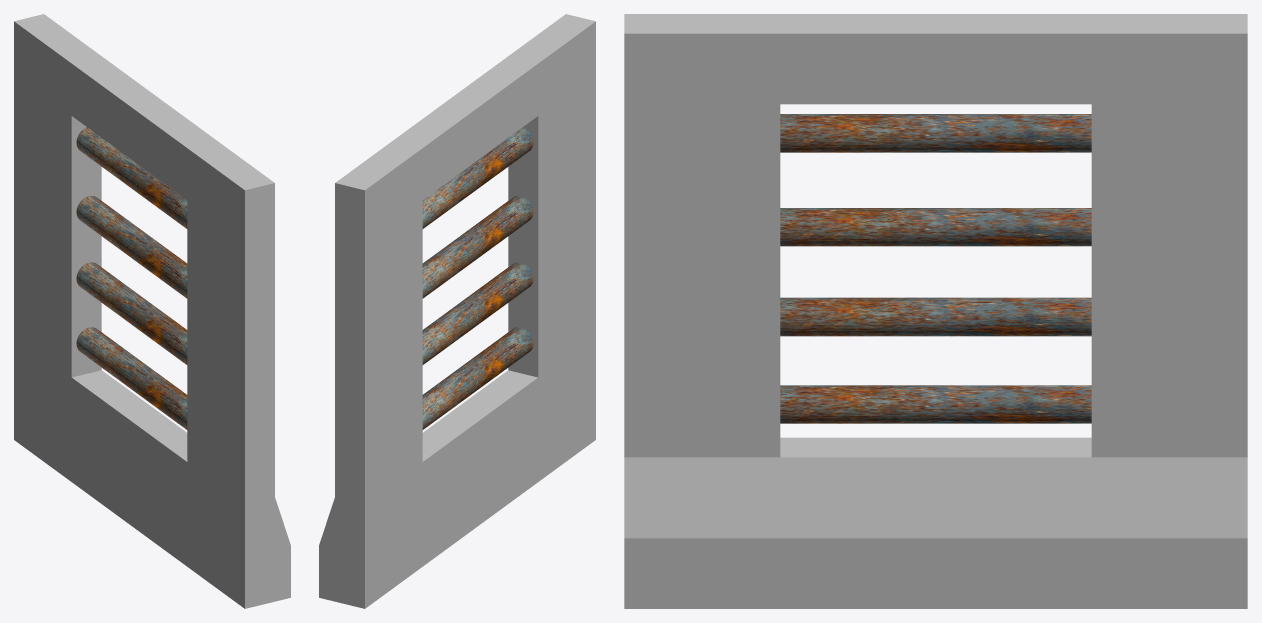
The model's file is wall 3_v2.fbx.
The picture shows the model from 3 angles, left to right: view 1: azimuth 30°, elevation 25°; view 2: azimuth 150°, elevation 25°; view 3: azimuth 270°, elevation 25°; orthographic projection. The views are drawn at different scales.
Visible parts, largest first — view 1: Plane.009, Cylinder; view 2: Plane.009, Cylinder; view 3: Plane.009, Cylinder.
Boxes of the visible parts, box(x1,y1,x2,y2) form: Plane.009: box(14, 14, 290, 608); Cylinder: box(76, 127, 187, 429); Plane.009: box(319, 14, 595, 608); Cylinder: box(422, 127, 533, 429); Plane.009: box(624, 14, 1247, 608); Cylinder: box(780, 114, 1091, 423).
Size of the model in its own units: 23 by 200 by 200.
